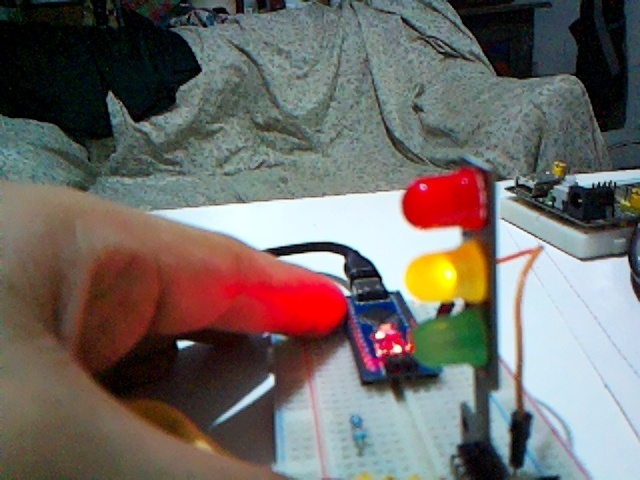traffic_light_yellow: (403, 164, 499, 469)
